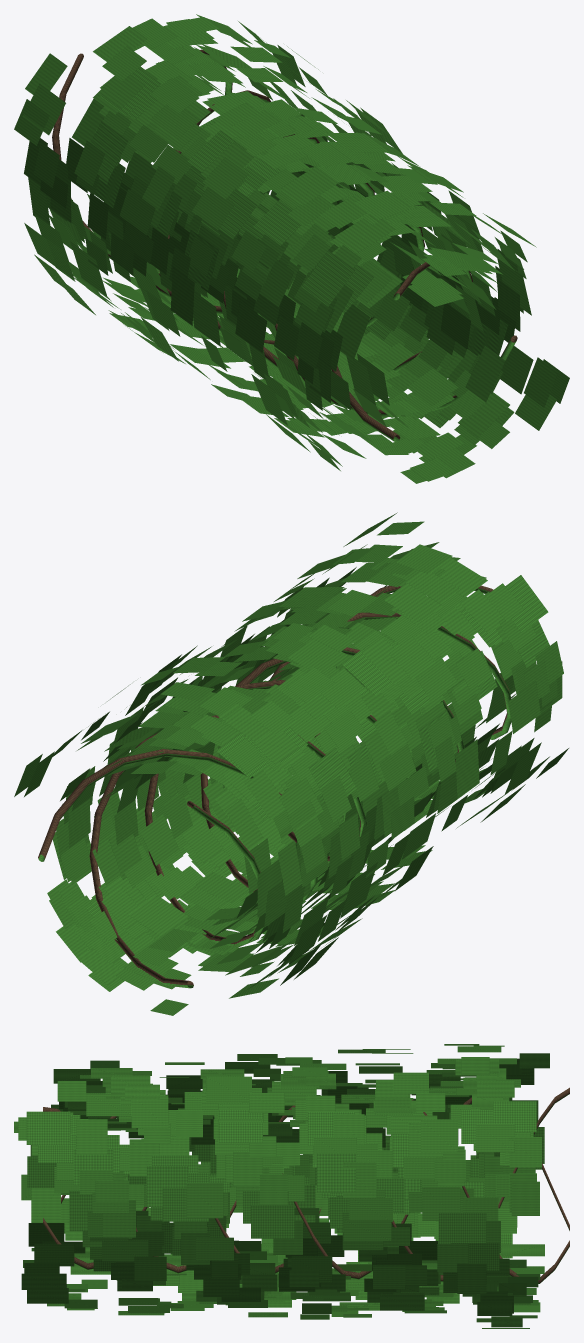
File: veg_vine_wisteria_01.obj
3 views of the same model, one above another, from view 1: azimuth 30°, elevation 25°; view 2: azimuth 150°, elevation 25°; view 3: azimuth 270°, elevation 25° (orthographic). The views are drawn at different scales.
Parts seen in each view (by area): view 1: veg_vine_wisteria_01; view 2: veg_vine_wisteria_01; view 3: veg_vine_wisteria_01.
Boxes of the visible parts, <box> form: veg_vine_wisteria_01: <box>14,14,569,483</box>; veg_vine_wisteria_01: <box>14,512,568,1015</box>; veg_vine_wisteria_01: <box>14,1044,569,1328</box>.
Bounding box in the file's own units: 1.59 × 1.59 × 3.2.
1 material, 1 textured.
